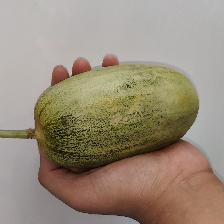gua: (41, 61, 188, 154)
